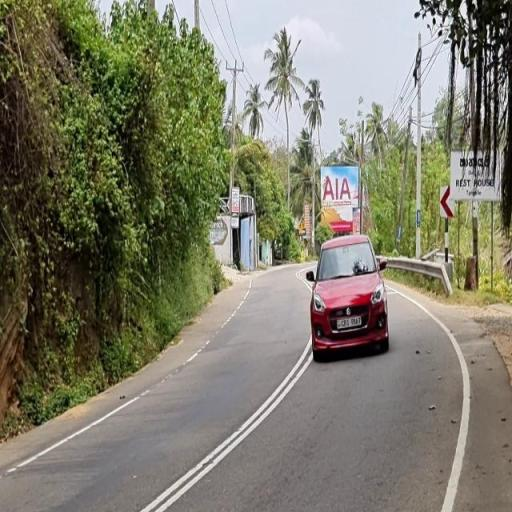double_white_line: (141, 337, 308, 512)
